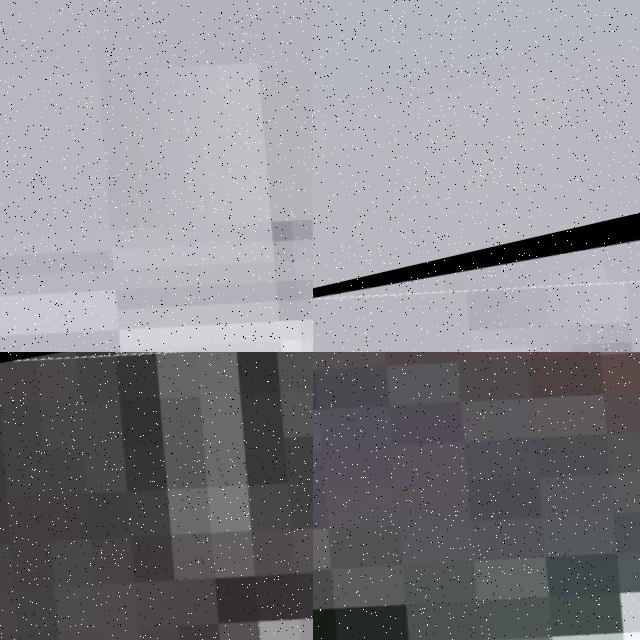drone: (0, 0, 313, 352), (313, 352, 640, 640), (0, 352, 313, 640), (313, 186, 640, 352)
